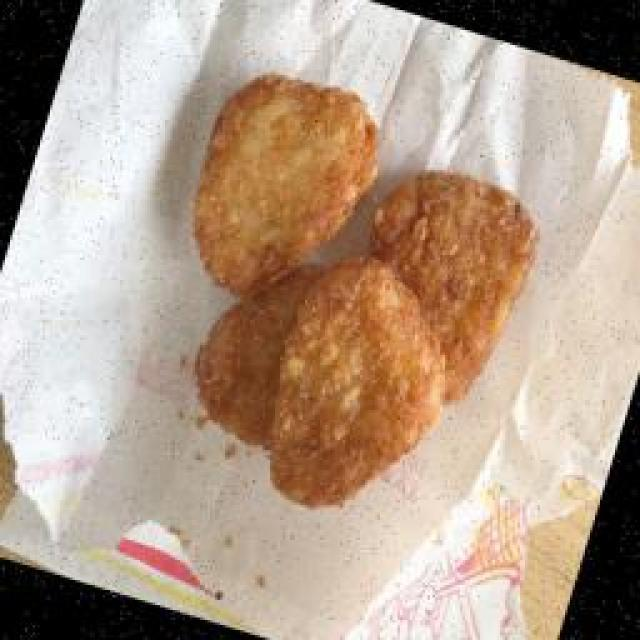triangle_hash_brown: (112, 53, 570, 556)
